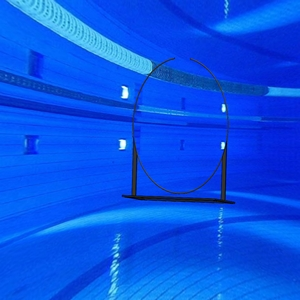circle: (122, 56, 236, 205)
